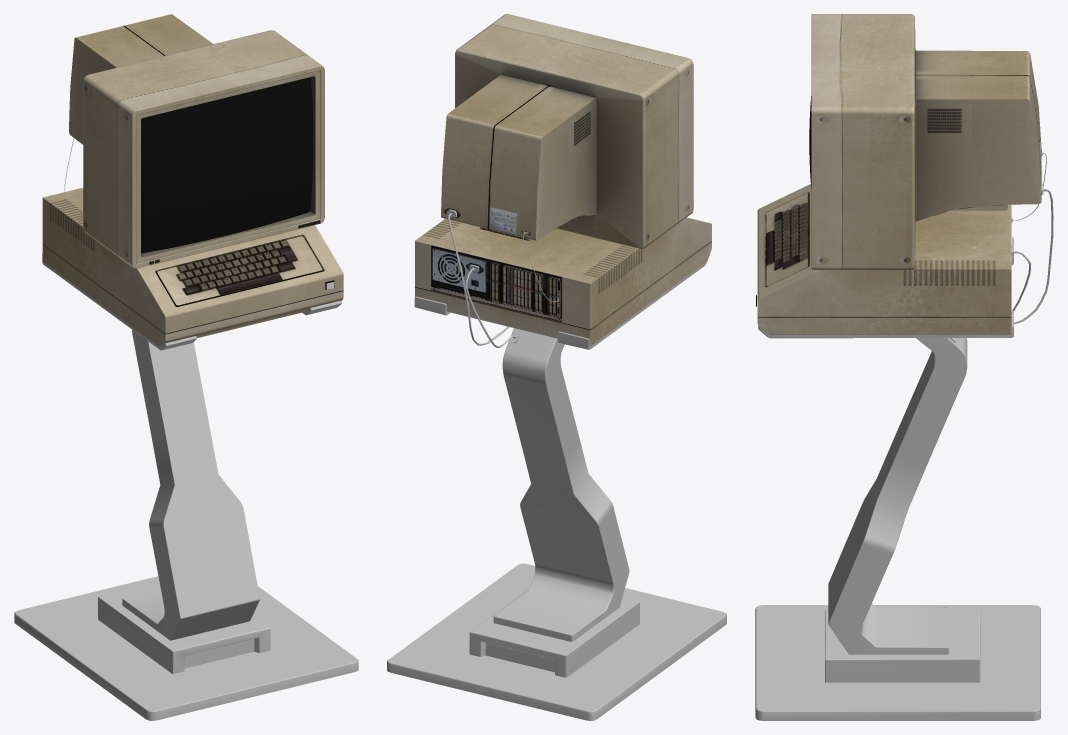
Rendered from Computer.fbx.
3 views of the same model, side by side, from view 1: azimuth 30°, elevation 25°; view 2: azimuth 150°, elevation 25°; view 3: azimuth 270°, elevation 25° (orthographic). The views are drawn at different scales.
Visible parts, largest first — view 1: Object_2, Object_7, Object_5; view 2: Object_2, Object_7; view 3: Object_2, Object_7.
Part boxes in pixels (<box>): Object_2: <box>42,14,343,347</box>; Object_7: <box>14,138,358,720</box>; Object_5: <box>141,77,312,253</box>; Object_2: <box>415,14,711,346</box>; Object_7: <box>387,209,726,720</box>; Object_2: <box>756,14,1041,334</box>; Object_7: <box>755,151,1053,720</box>.
Size of the model in its own units: 70.39 by 187 by 83.13.
